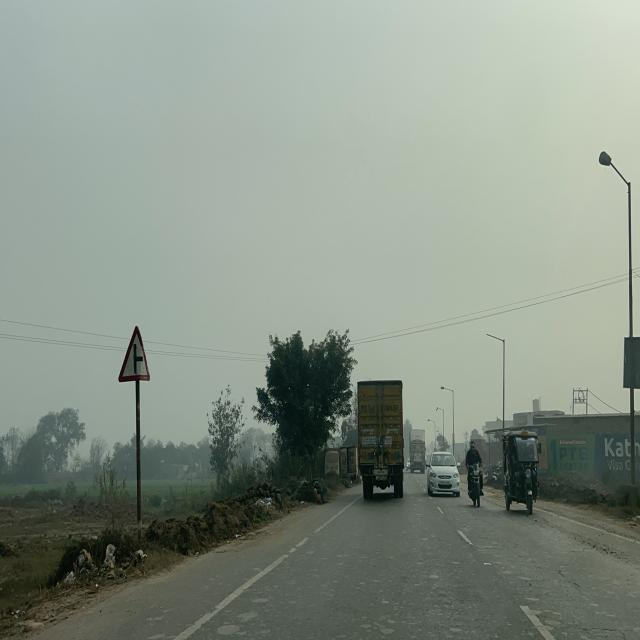SIDE_ROAD_RIGHT: (118, 325, 151, 383)
